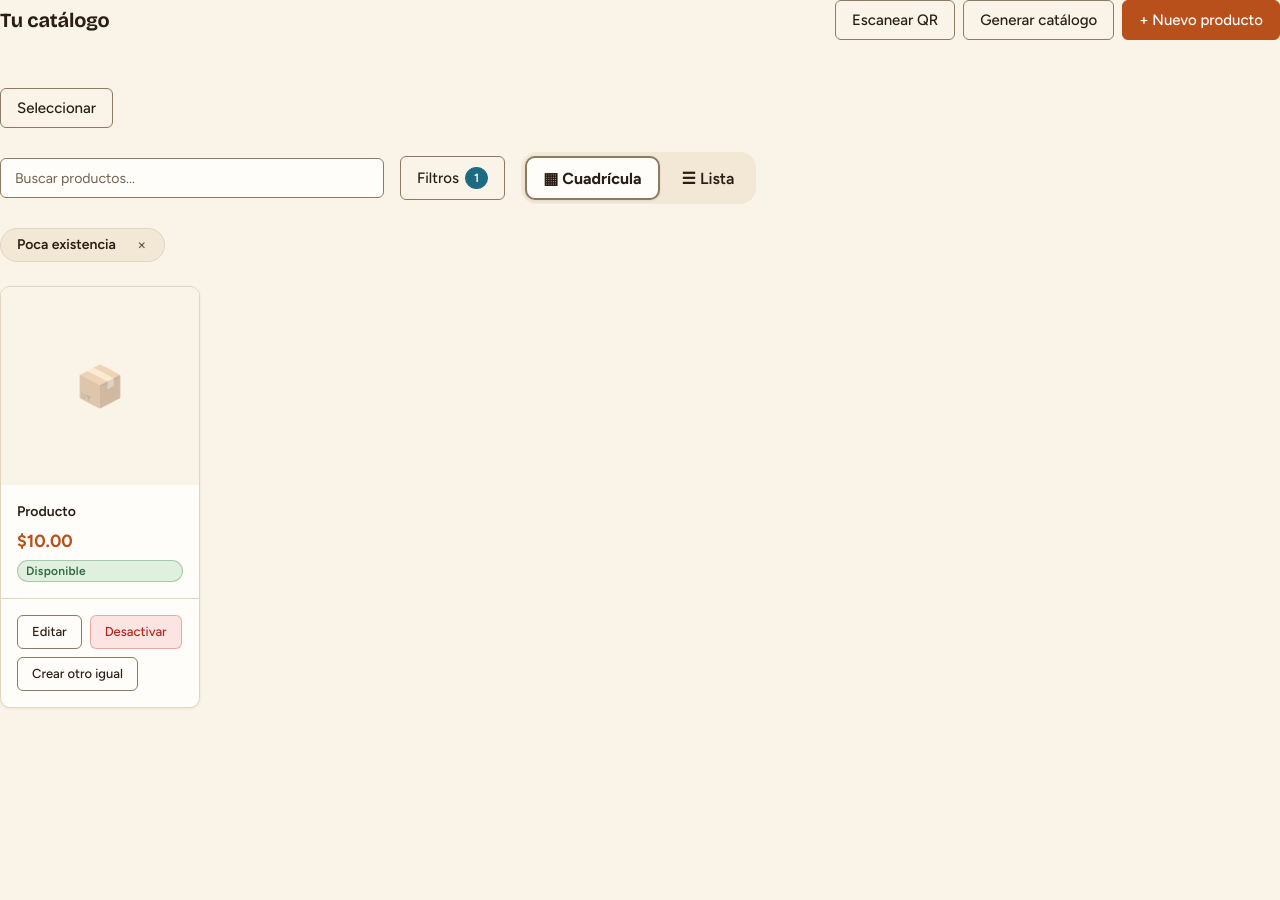
Scenario: ProductCatalogView — filtro de poca existencia (umbral) › llega desde la tarjeta "Poca existencia" de Inicio (?pocaExistencia=1) › con el query param activa el filtro desde el arranque
expect the list named "Filtros activos" shows "Poca existencia": met, box top-left (17, 236), bottom-right (116, 253)
Click the button "Filtros 1" at (453, 178), box top-left (400, 156), bottom-right (505, 200)
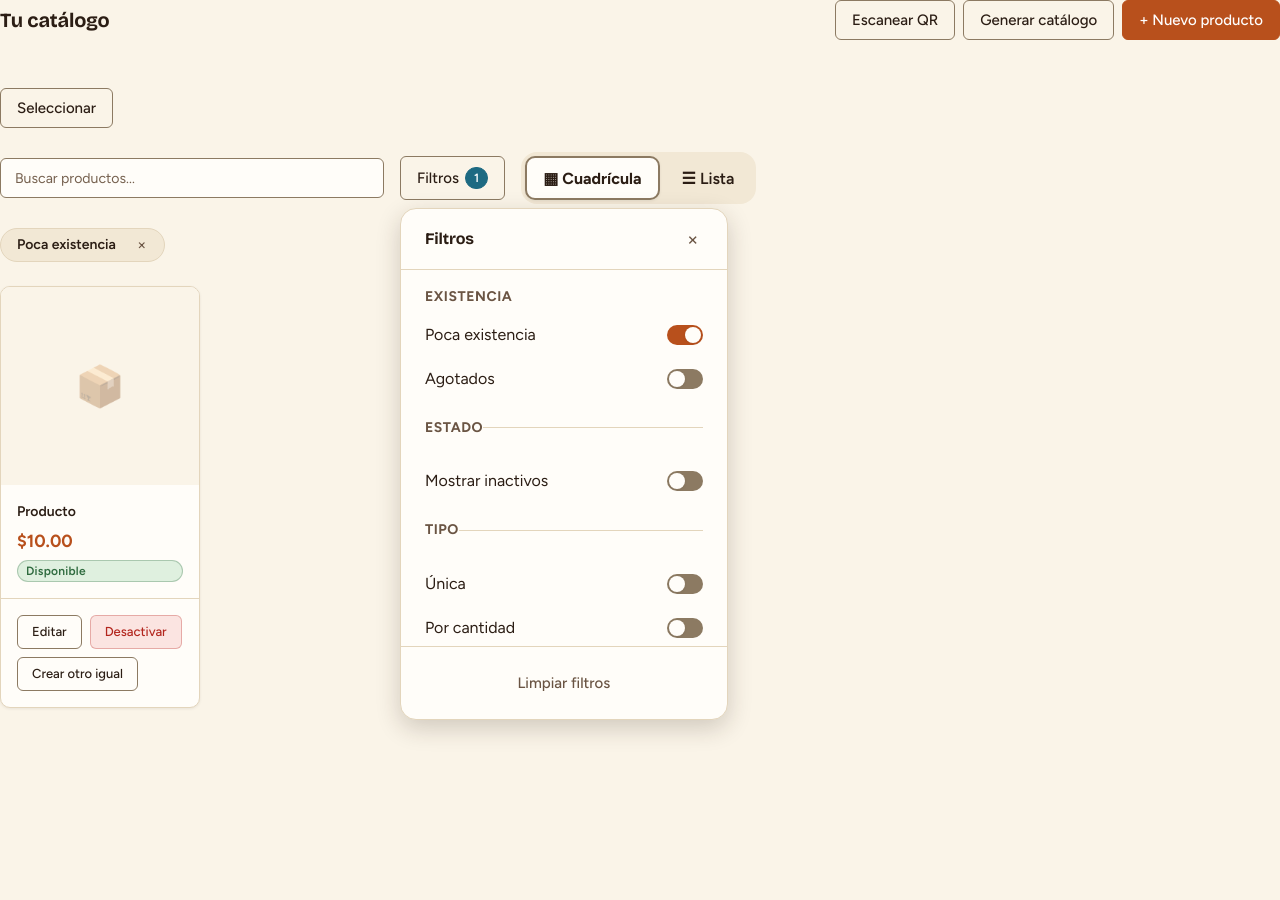
expect the checkbox labelled "Poca existencia" is checked: met, box top-left (425, 325), bottom-right (536, 344)
